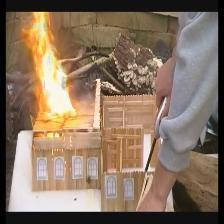fire: (19, 15, 75, 117)
